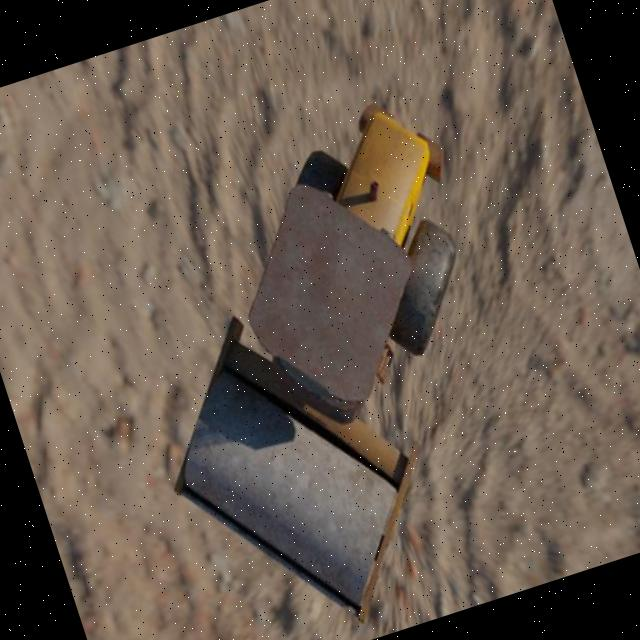Roller: (77, 85, 574, 640)
